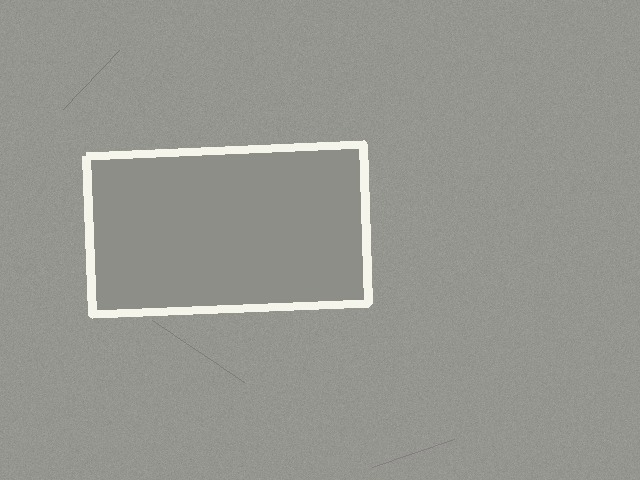parking_area: (86, 144, 368, 314)
